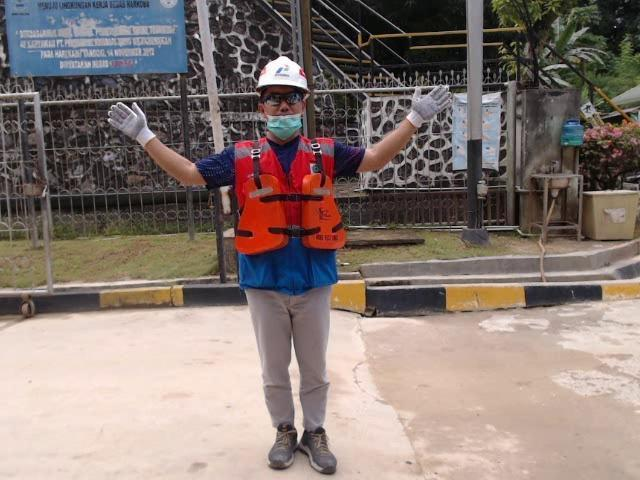0: (105, 94, 161, 163), (402, 83, 454, 133)
Boots: (250, 51, 315, 98)
Glass: (232, 132, 350, 256)
